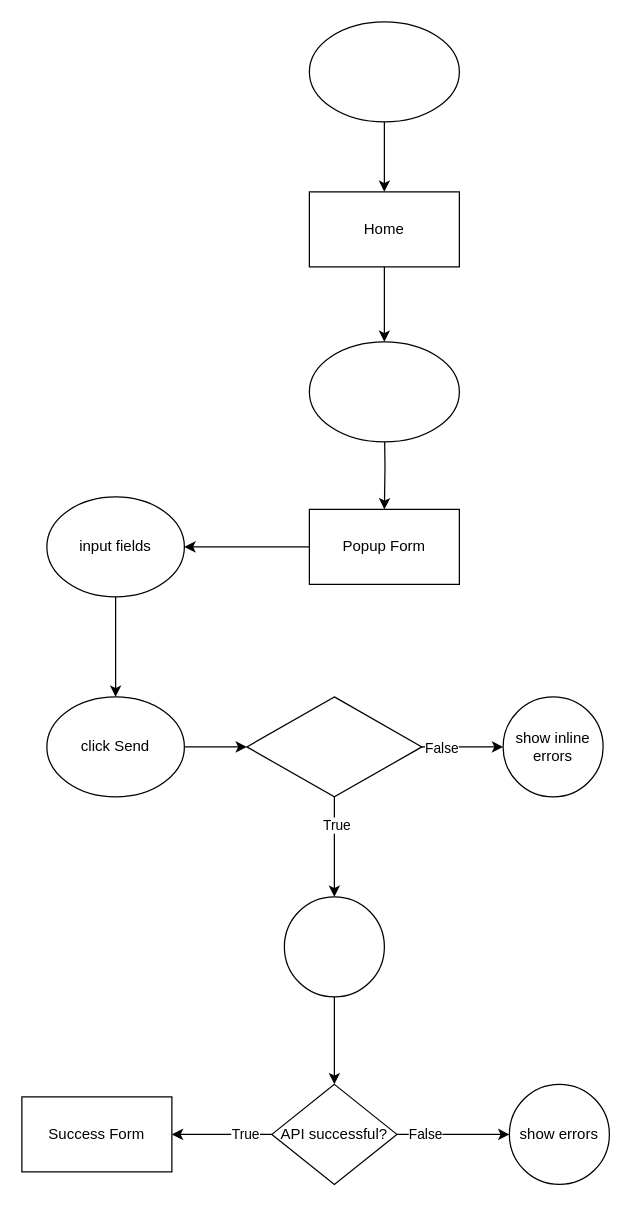
Some shapes in this 631 by 1206 pixel diagram are drawn without their labels. The centre of each missing label's shape, as x and y in pixels:
click Request an invite: the point at 383,391
isValid inputs?: the point at 334,746
make API request to BE: the point at 333,946
Start: the point at 383,71
